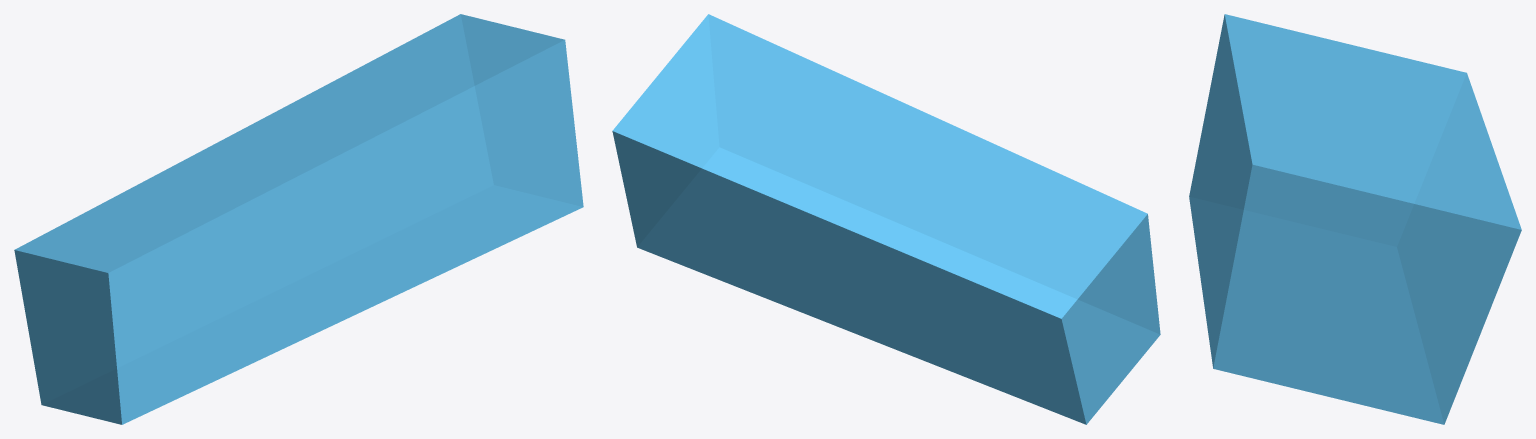
The model's file is Event_421364160_HErechit_47.fbx.
3 renders of one model, left to right at view 1: azimuth 30°, elevation 25°; view 2: azimuth 150°, elevation 25°; view 3: azimuth 270°, elevation 25°, orthographic. The views are drawn at different scales.
Visible parts, largest first — view 1: Model; view 2: Model; view 3: Model.
Boxes of the visible parts, x1,y1,x2,y2 form: Model: (14, 14, 583, 424); Model: (612, 14, 1160, 424); Model: (1189, 14, 1521, 424).
Size of the model in its own units: 1.24 by 0.7384 by 0.5915.
